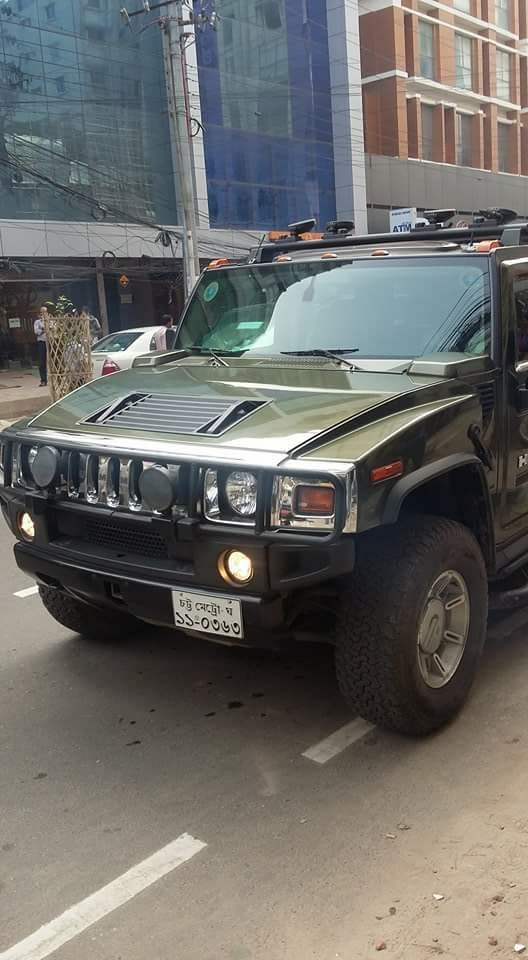registration_plate: (170, 589, 244, 640)
